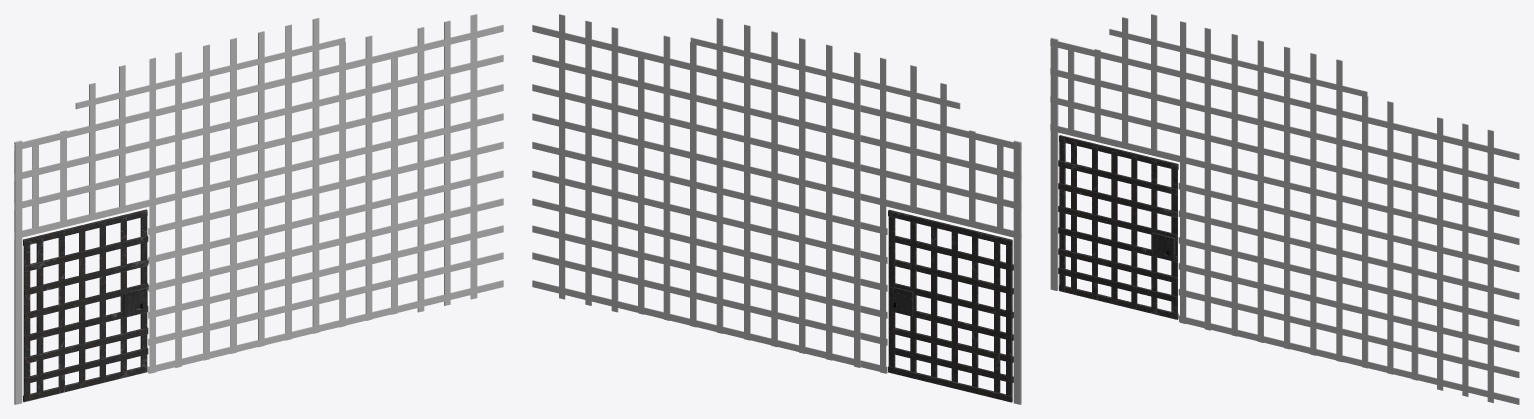
File: BarsWithDoorForDungeon.fbx
3 renders of one model, left to right at view 1: azimuth 30°, elevation 25°; view 2: azimuth 150°, elevation 25°; view 3: azimuth 330°, elevation 25°, orthographic. The views are drawn at different scales.
Parts seen in each view (by area): view 1: DungeonV3pCube792, DungeonV3pCube793; view 2: DungeonV3pCube792, DungeonV3pCube793; view 3: DungeonV3pCube792, DungeonV3pCube793.
Part boxes in pixels (left/top/right/bottom): DungeonV3pCube792: left=14, top=14, right=503, bottom=404; DungeonV3pCube793: left=23, top=209, right=148, bottom=402; DungeonV3pCube792: left=532, top=14, right=1021, bottom=404; DungeonV3pCube793: left=888, top=209, right=1013, bottom=402; DungeonV3pCube792: left=1050, top=14, right=1519, bottom=404; DungeonV3pCube793: left=1058, top=135, right=1178, bottom=319.
Size of the model in its own units: 7.57 by 4.71 by 0.083.
